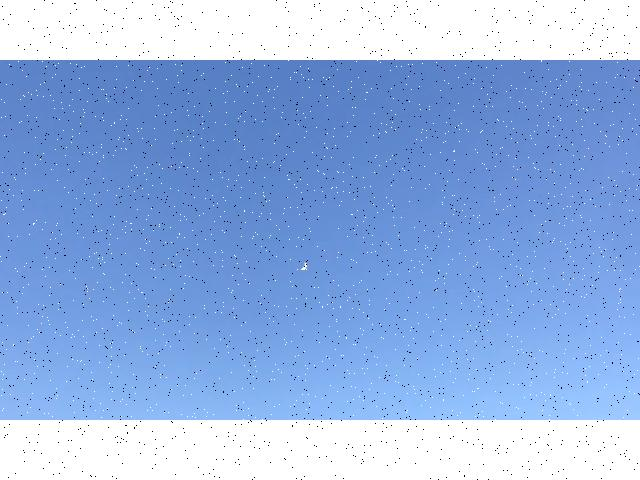Anti-Drone: (290, 244, 318, 280)
